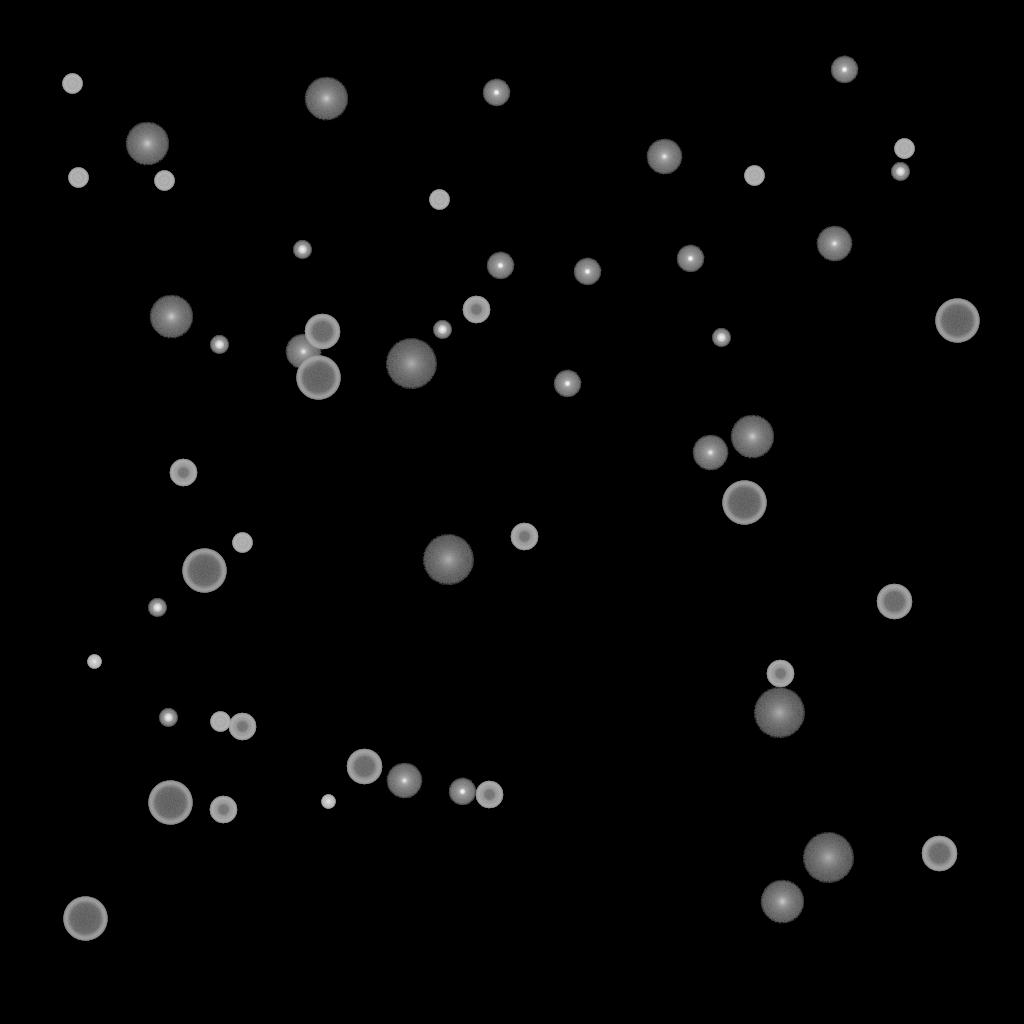depth:-10: (830, 56, 858, 84), (573, 258, 601, 286), (553, 370, 581, 398), (486, 252, 514, 280), (448, 778, 476, 806), (676, 245, 704, 273), (482, 79, 510, 107)
depth:-20: (159, 709, 177, 727), (712, 329, 730, 347), (891, 163, 909, 181), (433, 321, 451, 339), (148, 599, 166, 617), (210, 336, 228, 354), (293, 241, 311, 259)
depth:-30: (321, 795, 335, 809), (87, 655, 101, 669)
depth:-40: (894, 139, 914, 159), (210, 712, 230, 732), (429, 190, 449, 210), (744, 166, 764, 186), (232, 533, 252, 553), (62, 74, 82, 94), (68, 168, 88, 188), (154, 171, 174, 191)
depth:-50: (475, 781, 503, 809), (228, 713, 256, 741), (766, 660, 794, 688), (169, 459, 197, 487), (209, 796, 237, 824), (462, 296, 490, 324), (510, 523, 538, 551)
depth:-60: (304, 314, 340, 350), (346, 749, 382, 785), (921, 836, 957, 872), (876, 584, 912, 620)
depth:-70: (182, 549, 226, 593), (63, 897, 107, 941), (935, 299, 979, 343), (722, 481, 766, 525), (148, 781, 192, 825), (296, 356, 340, 400)
depth:0: (285, 334, 321, 370), (816, 226, 852, 262), (386, 763, 422, 799), (692, 435, 728, 471), (646, 139, 682, 175)
depth:10: (125, 122, 169, 166), (304, 77, 348, 121), (730, 415, 774, 459), (149, 295, 193, 339), (760, 880, 804, 924)
depth:20: (802, 833, 854, 883), (385, 339, 437, 389), (422, 535, 474, 585), (753, 688, 805, 738)
